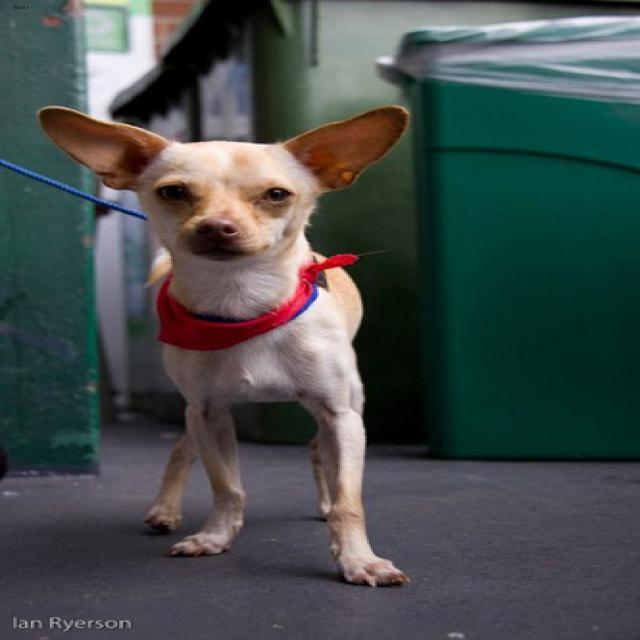dog-chihuahua: (29, 96, 427, 602)
